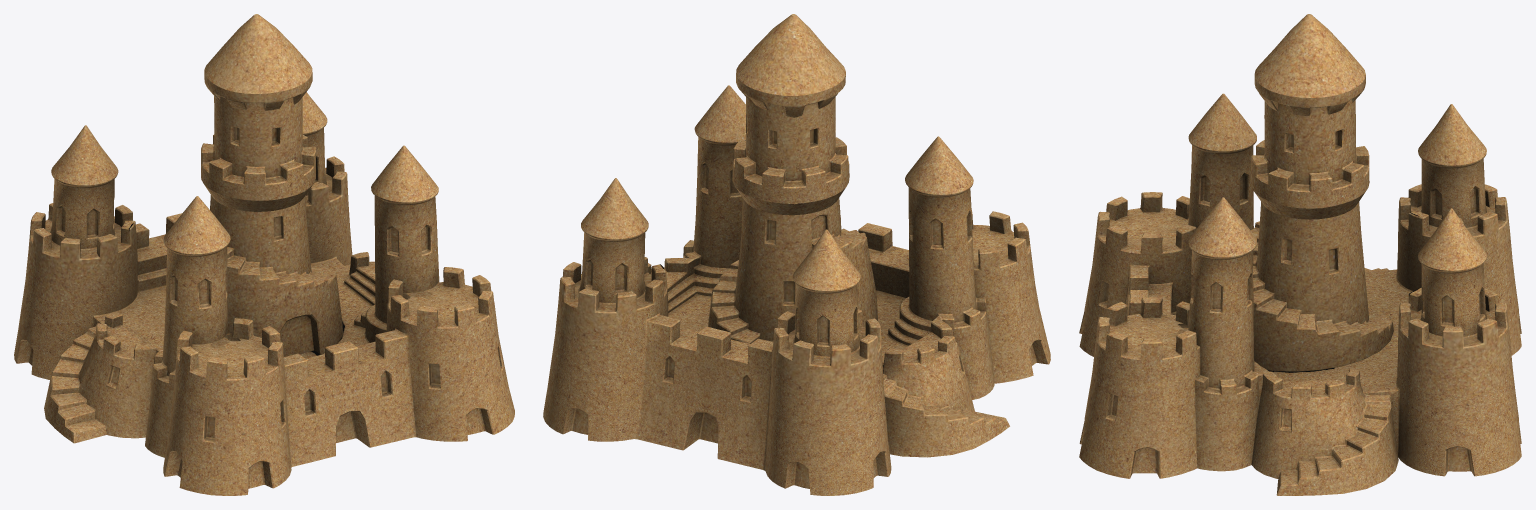
The model's file is SandCastle-DZlIFELz.glb.
3 renders of one model, left to right at view 1: azimuth 30°, elevation 25°; view 2: azimuth 150°, elevation 25°; view 3: azimuth 270°, elevation 25°, orthographic. The views are drawn at different scales.
Visible parts, largest first — view 1: Cylinder.001, Cylinder.002; view 2: Cylinder.001, Cylinder.002; view 3: Cylinder.001, Cylinder.002.
Part boxes in pixels (left/top/right/bottom): Cylinder.001: left=14, top=92, right=514, bottom=495; Cylinder.002: left=201, top=14, right=343, bottom=356; Cylinder.001: left=543, top=85, right=1050, bottom=495; Cylinder.002: left=708, top=14, right=877, bottom=343; Cylinder.001: left=1079, top=93, right=1521, bottom=495; Cylinder.002: left=1250, top=14, right=1393, bottom=371.
Bounding box in the file's own units: 9.07 × 7.95 × 8.42.
Materials: 1 (1 with a texture image).
